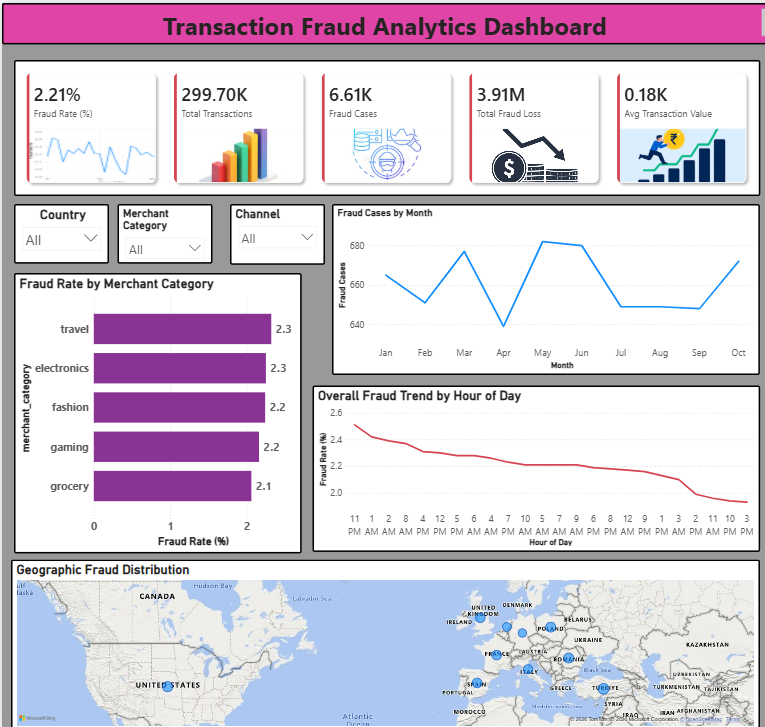

This screenshot's page, from the dashboard's own definition file:
{"tool":"powerbi","page":{"name":"Page 1","canvas":[1351,1280],"ordinal":0},"visuals":[{"type":"lineChart","title":"Overall Fraud Trend by Hour of Day","fields":{"Y":["Sum(hourly_fraud_analysis.fraud_rate)"],"Category":["hourly_fraud_analysis.Hour Label"]},"box":[545.9,672.1,785.2,291.8],"z":0},{"type":"clusteredBarChart","title":"Fraud Rate by Merchant Category","fields":{"Category":["merchant_risk.merchant_category"],"Y":["Sum(merchant_risk.fraud_rate)"]},"box":[21.3,473.8,504.9,491.8],"z":1000},{"type":"map","title":"Geographic Fraud Distribution","fields":{"Category":["country_risk.country"],"Size":["Sum(country_risk.fraud_cases)"]},"box":[15.9,976.2,1314.3,303.2],"z":2000},{"type":"slicer","title":"Country","fields":{"Values":["country_risk.country"]},"box":[20.6,352.4,166.7,104.8],"z":3000},{"type":"slicer","title":"Merchant Category","fields":{"Values":["merchant_risk.merchant_category"]},"box":[203.2,352.4,166.7,104.8],"z":4000},{"type":"slicer","title":"Channel","fields":{"Values":["channel_risk.channel"]},"box":[400,352.4,166.7,106.3],"z":5000},{"type":"textbox","box":[0,0,1351.1,72.3],"z":6000},{"type":"cardVisual","fields":{"Data":["avs_analysis.Fraud Rate","Count(transactions.transaction_id)","avs_analysis.Fraud Cases","Sum(fraud_summary.fraud_loss)","avs_analysis.Avg Transaction Amount"]},"box":[20,100,1309.2,238.5],"z":7000},{"type":"lineChart","title":"Fraud Cases by Month","fields":{"Y":["Sum(monthly_fraud_analysis.fraud_cases)"],"Category":["monthly_fraud_analysis.Month Name"]},"box":[578.7,352.5,750.8,300],"z":8000}]}

Visuals, with their boxes in screenshot pixels (x1, y1, x2, y2), scaled from the page's 1351x1280 canvas onto the 765x727 screenshot:
"Overall Fraud Trend by Hour of Day" lineChart: bbox=[309, 382, 754, 547]
"Fraud Rate by Merchant Category" clusteredBarChart: bbox=[12, 269, 298, 548]
"Geographic Fraud Distribution" map: bbox=[9, 554, 753, 726]
"Country" slicer: bbox=[12, 200, 106, 260]
"Merchant Category" slicer: bbox=[115, 200, 209, 260]
"Channel" slicer: bbox=[226, 200, 321, 261]
textbox: bbox=[0, 0, 764, 41]
cardVisual - avs_analysis.Fraud Rate x Count(transactions.transaction_id): bbox=[11, 57, 753, 192]
"Fraud Cases by Month" lineChart: bbox=[328, 200, 753, 371]
